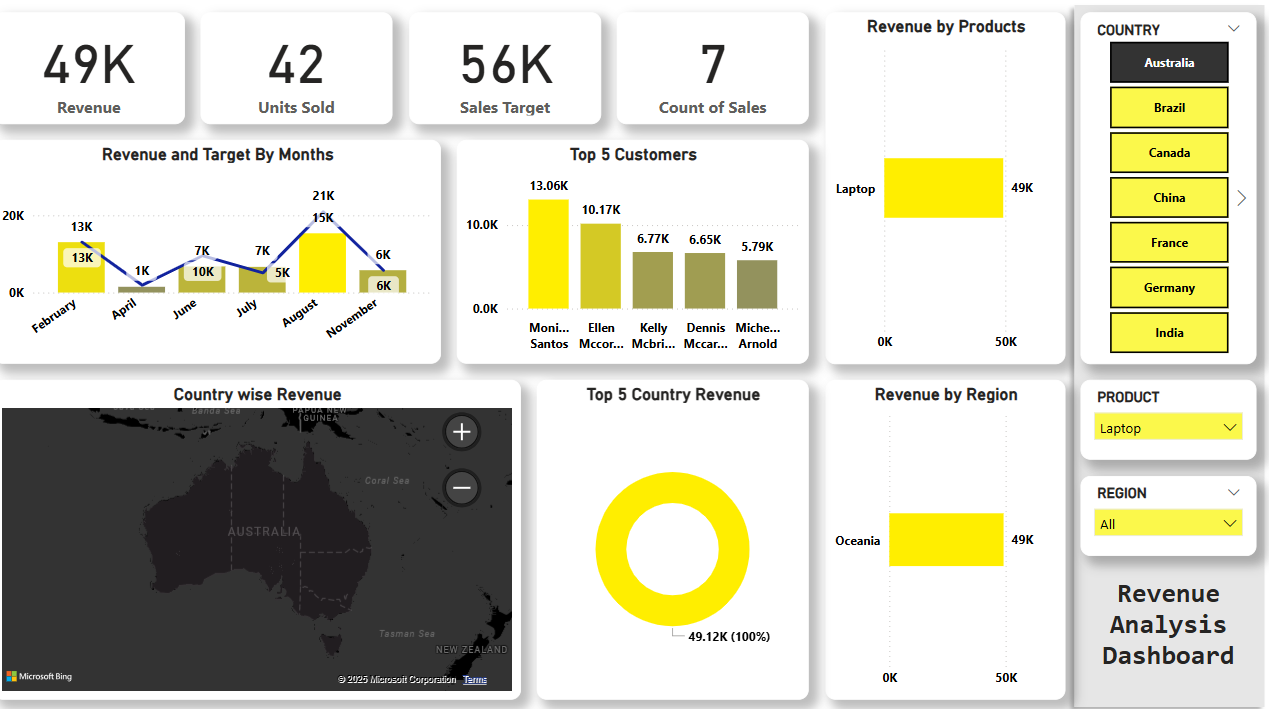

The page's visual inventory and layout, read from the dashboard file:
{"tool":"powerbi","page":{"name":"Page 1","canvas":[1280,720],"ordinal":0},"visuals":[{"type":"card","fields":{"Values":["sales_distribution_data.SALES"]},"box":[0,16,192,112],"z":0},{"type":"card","fields":{"Values":["sales_distribution_data.QUANTITY"]},"box":[208,16,192,112],"z":1000},{"type":"card","fields":{"Values":["sales_distribution_data.Target"]},"box":[416,16,192,112],"z":2000},{"type":"card","fields":{"Values":["sales_distribution_data.Index"]},"box":[624,16,192,112],"z":3000},{"type":"clusteredBarChart","title":"Revenue by Products","fields":{"Category":["sales_distribution_data.PRODUCT"],"Y":["sales_distribution_data.SALES"]},"box":[832,16,240,352],"z":4000},{"type":"shape","box":[1072,0,208,720],"z":5000},{"type":"clusteredBarChart","title":"Revenue by Region","fields":{"Y":["sales_distribution_data.SALES"],"Category":["sales_distribution_data.REGION"]},"box":[832,384,240,320],"z":6000},{"type":"lineStackedColumnComboChart","title":"Revenue and Target By Months","fields":{"Category":["sales_distribution_data.DATE.Variation.Date Hierarchy.Month"],"Y":["sales_distribution_data.SALES"],"Y2":["sales_distribution_data.Target"]},"box":[0,144,448,224],"z":7000},{"type":"slicer","fields":{"Values":["sales_distribution_data.COUNTRY"]},"box":[1088,16,176,352],"z":8000},{"type":"slicer","fields":{"Values":["sales_distribution_data.PRODUCT"]},"box":[1088,384,176,80],"z":9000},{"type":"slicer","fields":{"Values":["sales_distribution_data.REGION"]},"box":[1088,480,176,80],"z":10000},{"type":"clusteredColumnChart","title":"Top 5 Customers","fields":{"Category":["sales_distribution_data.CUSTOMER_NAME"],"Y":["sales_distribution_data.SALES"]},"box":[464,144,352,224],"z":11000},{"type":"filledMap","title":"Country wise Revenue","fields":{"Category":["sales_distribution_data.COUNTRY"],"Series":["sales_distribution_data.SALES"]},"box":[0,384,528,320],"z":12000},{"type":"textbox","box":[1088,576,176,112],"z":13000},{"type":"donutChart","title":"Top 5 Country Revenue","fields":{"Category":["sales_distribution_data.COUNTRY"],"Y":["sales_distribution_data.SALES"]},"box":[544,384,272,320],"z":14000}]}

Visuals, with their boxes in screenshot pixels (x1, y1, x2, y2), scaled from the page's 1280x720 canvas onto the 1269x709 screenshot:
card - sales_distribution_data.SALES: 0:16:190:126
card - sales_distribution_data.QUANTITY: 206:16:397:126
card - sales_distribution_data.Target: 412:16:603:126
card - sales_distribution_data.Index: 619:16:809:126
"Revenue by Products" clusteredBarChart: 825:16:1063:362
shape: 1063:0:1268:708
"Revenue by Region" clusteredBarChart: 825:378:1063:693
"Revenue and Target By Months" lineStackedColumnComboChart: 0:142:444:362
slicer - sales_distribution_data.COUNTRY: 1079:16:1253:362
slicer - sales_distribution_data.PRODUCT: 1079:378:1253:457
slicer - sales_distribution_data.REGION: 1079:473:1253:551
"Top 5 Customers" clusteredColumnChart: 460:142:809:362
"Country wise Revenue" filledMap: 0:378:523:693
textbox: 1079:567:1253:677
"Top 5 Country Revenue" donutChart: 539:378:809:693
